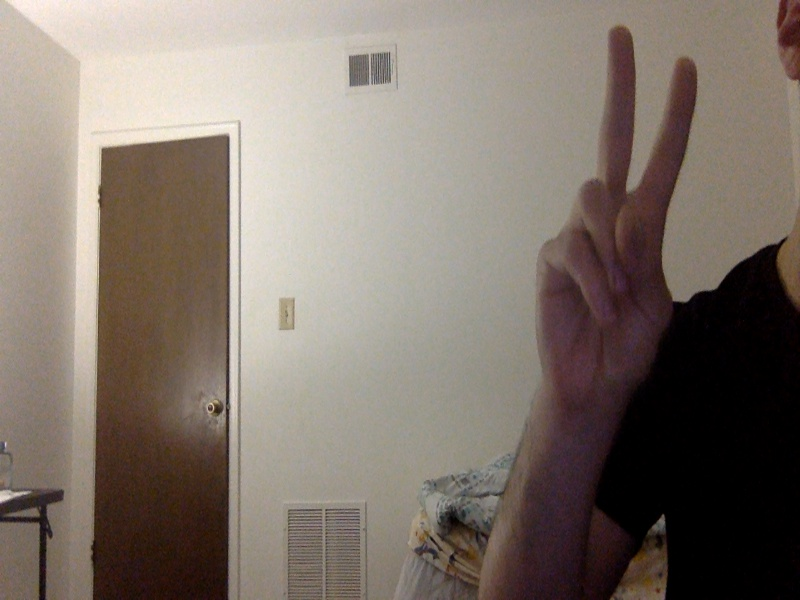2-hand: (535, 26, 701, 411)
